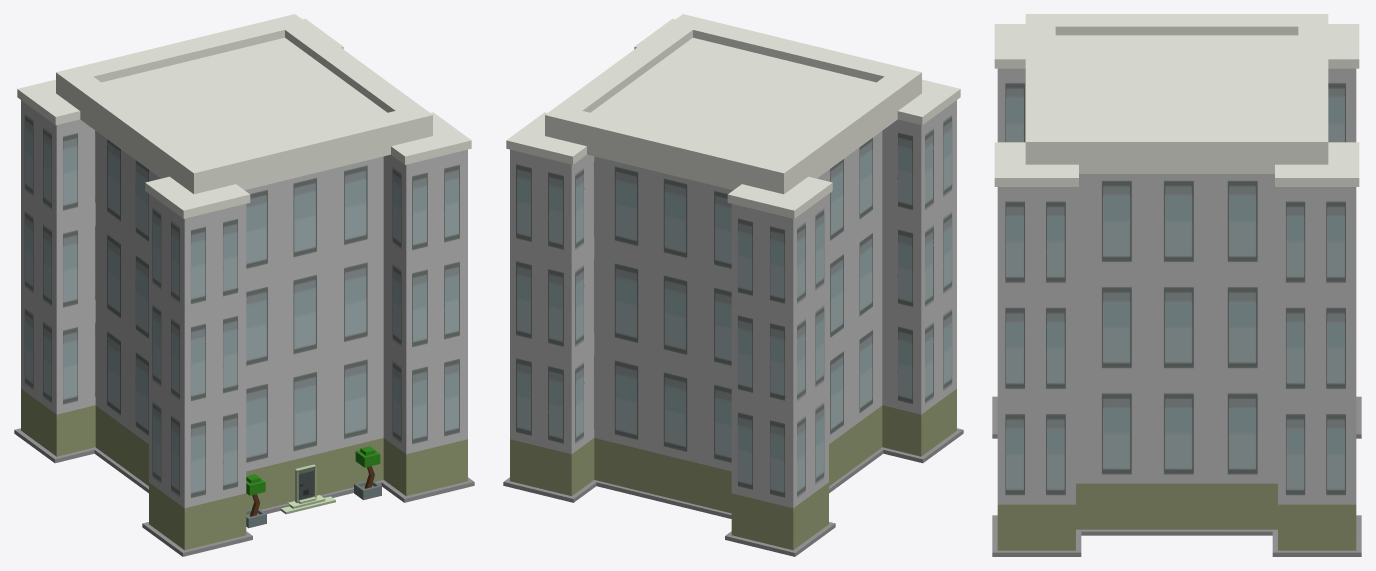
Rendered from Corner Pilars Basic Three Floor.fbx.
3 views of the same model, side by side, from view 1: azimuth 30°, elevation 25°; view 2: azimuth 150°, elevation 25°; view 3: azimuth 270°, elevation 25° (orthographic). The views are drawn at different scales.
Parts seen in each view (by area): view 1: Corner Pilars Basic Three Floor; view 2: Corner Pilars Basic Three Floor; view 3: Corner Pilars Basic Three Floor.
Part boxes in pixels (left/top/right/bottom): Corner Pilars Basic Three Floor: left=14, top=14, right=474, bottom=556; Corner Pilars Basic Three Floor: left=503, top=14, right=963, bottom=556; Corner Pilars Basic Three Floor: left=992, top=14, right=1361, bottom=556.
Bounding box in the file's own units: 7.37 × 8.84 × 7.37.
